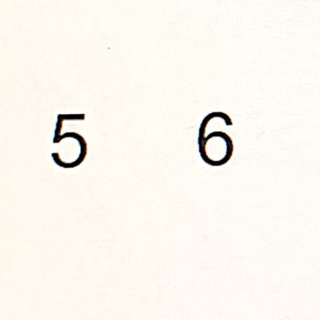five: (46, 110, 94, 169)
six: (195, 109, 238, 171)
